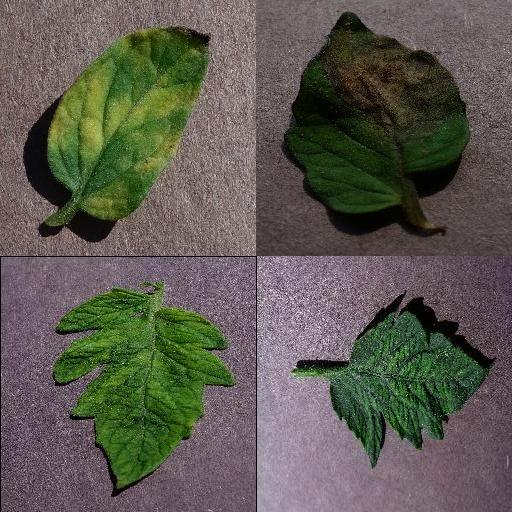Late Blight: (283, 7, 471, 215)
Leaf Mold: (48, 25, 212, 221)
Mosaic Virus: (52, 286, 238, 492), (328, 310, 488, 468)
